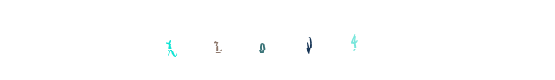4: (248, 0, 328, 80)
O: (237, 0, 317, 80)
V: (247, 0, 327, 80)
X: (130, 0, 210, 80)
Z: (212, 0, 292, 80)
